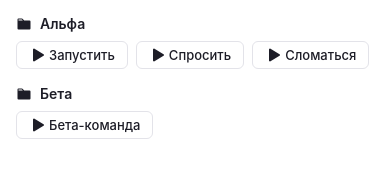
Commands tab › commandsTab_commandFailure_isShownAtTopOfPanel
The image size is (389, 192).
(page scrolled)
Click the button "Сломаться": click(311, 55) [252, 41, 369, 69]
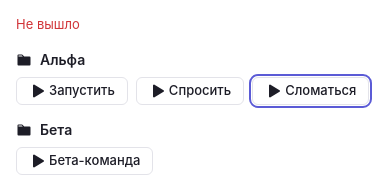
Expected: the message reads "Не вышло", [16, 16, 80, 32]
